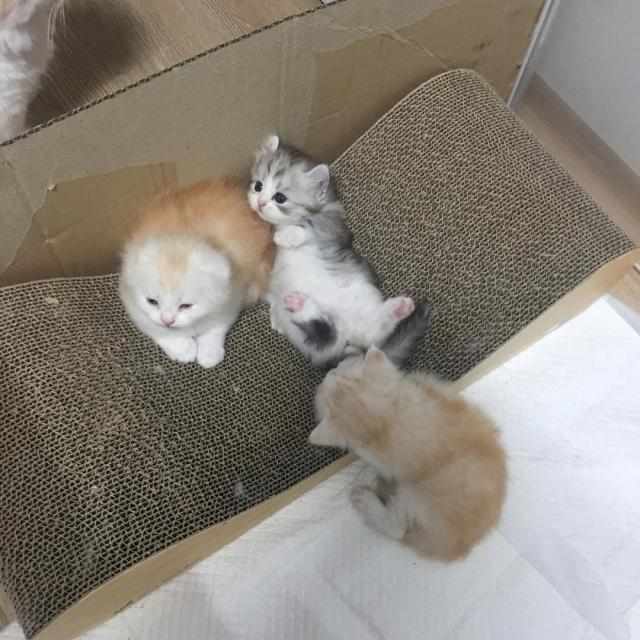cat: (303, 348, 526, 560), (250, 126, 438, 354), (108, 160, 268, 364)
